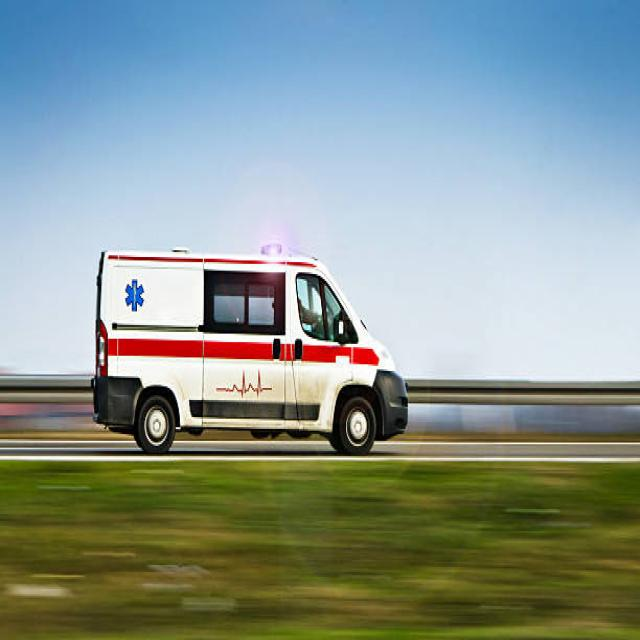emergency: (94, 250, 409, 455)
